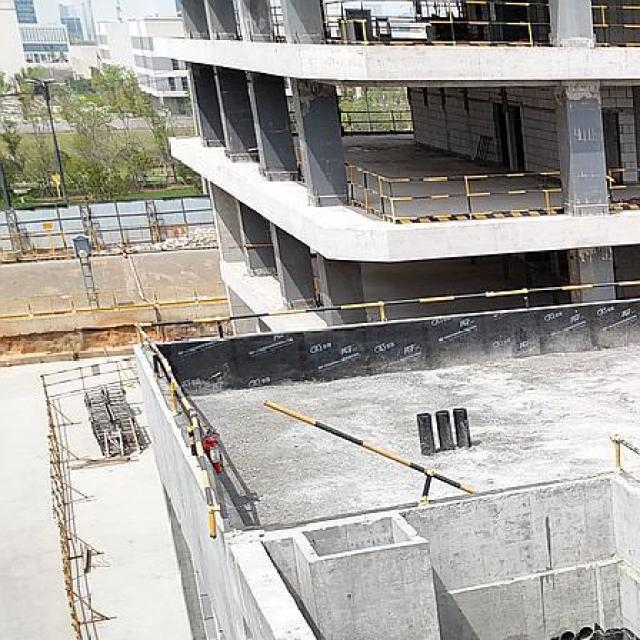edge_guardrail: (134, 280, 640, 540), (262, 398, 475, 503), (342, 160, 562, 217), (323, 0, 550, 44), (591, 5, 640, 42), (338, 110, 413, 131), (604, 166, 640, 204), (607, 430, 640, 470), (270, 5, 283, 36), (288, 111, 299, 136)
